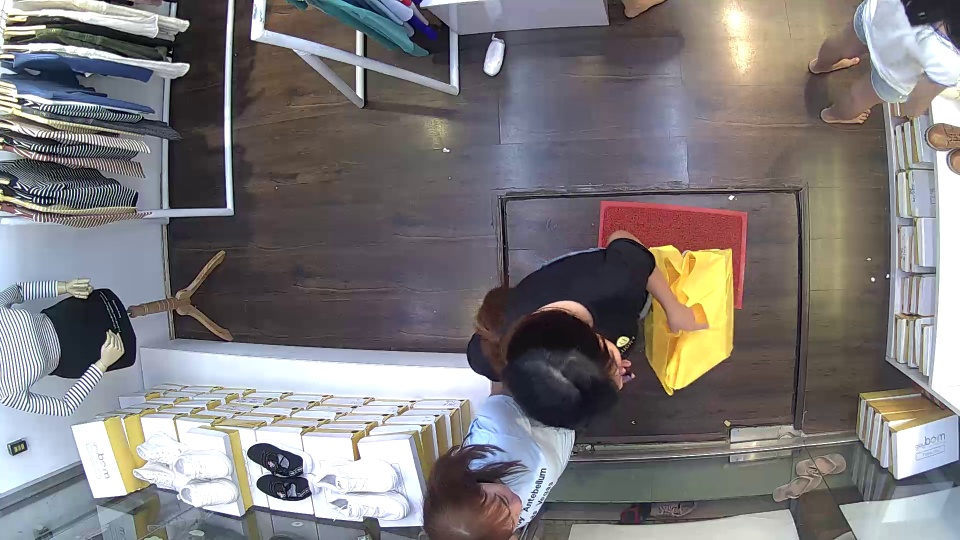topviewhead: (503, 315, 629, 427), (420, 474, 533, 538)
